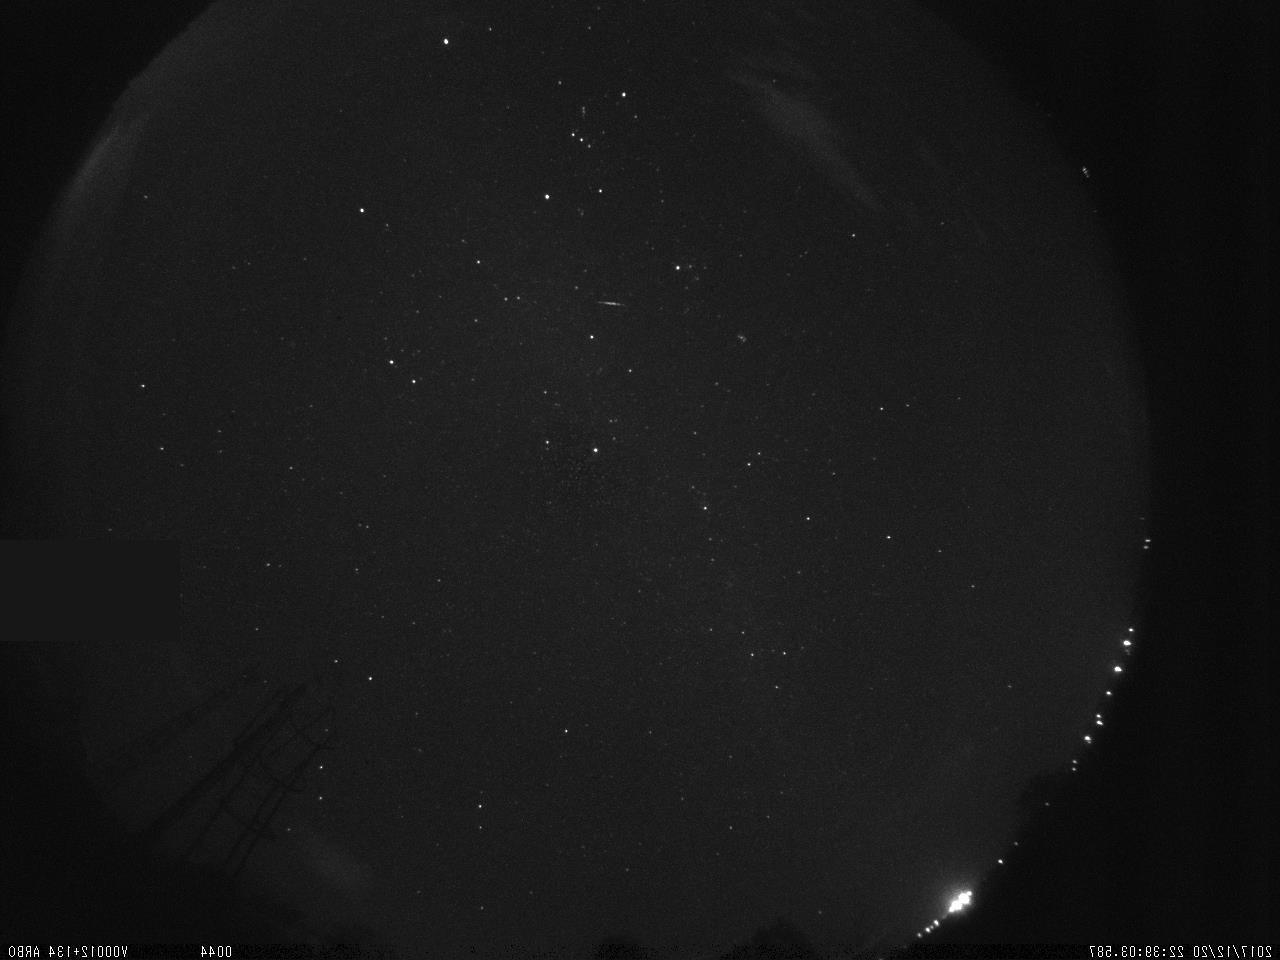meteor: (589, 294, 634, 315)
